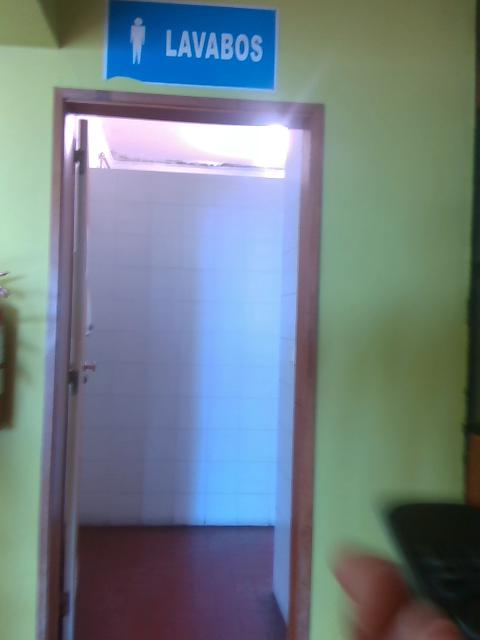open_door: (36, 85, 327, 639)
